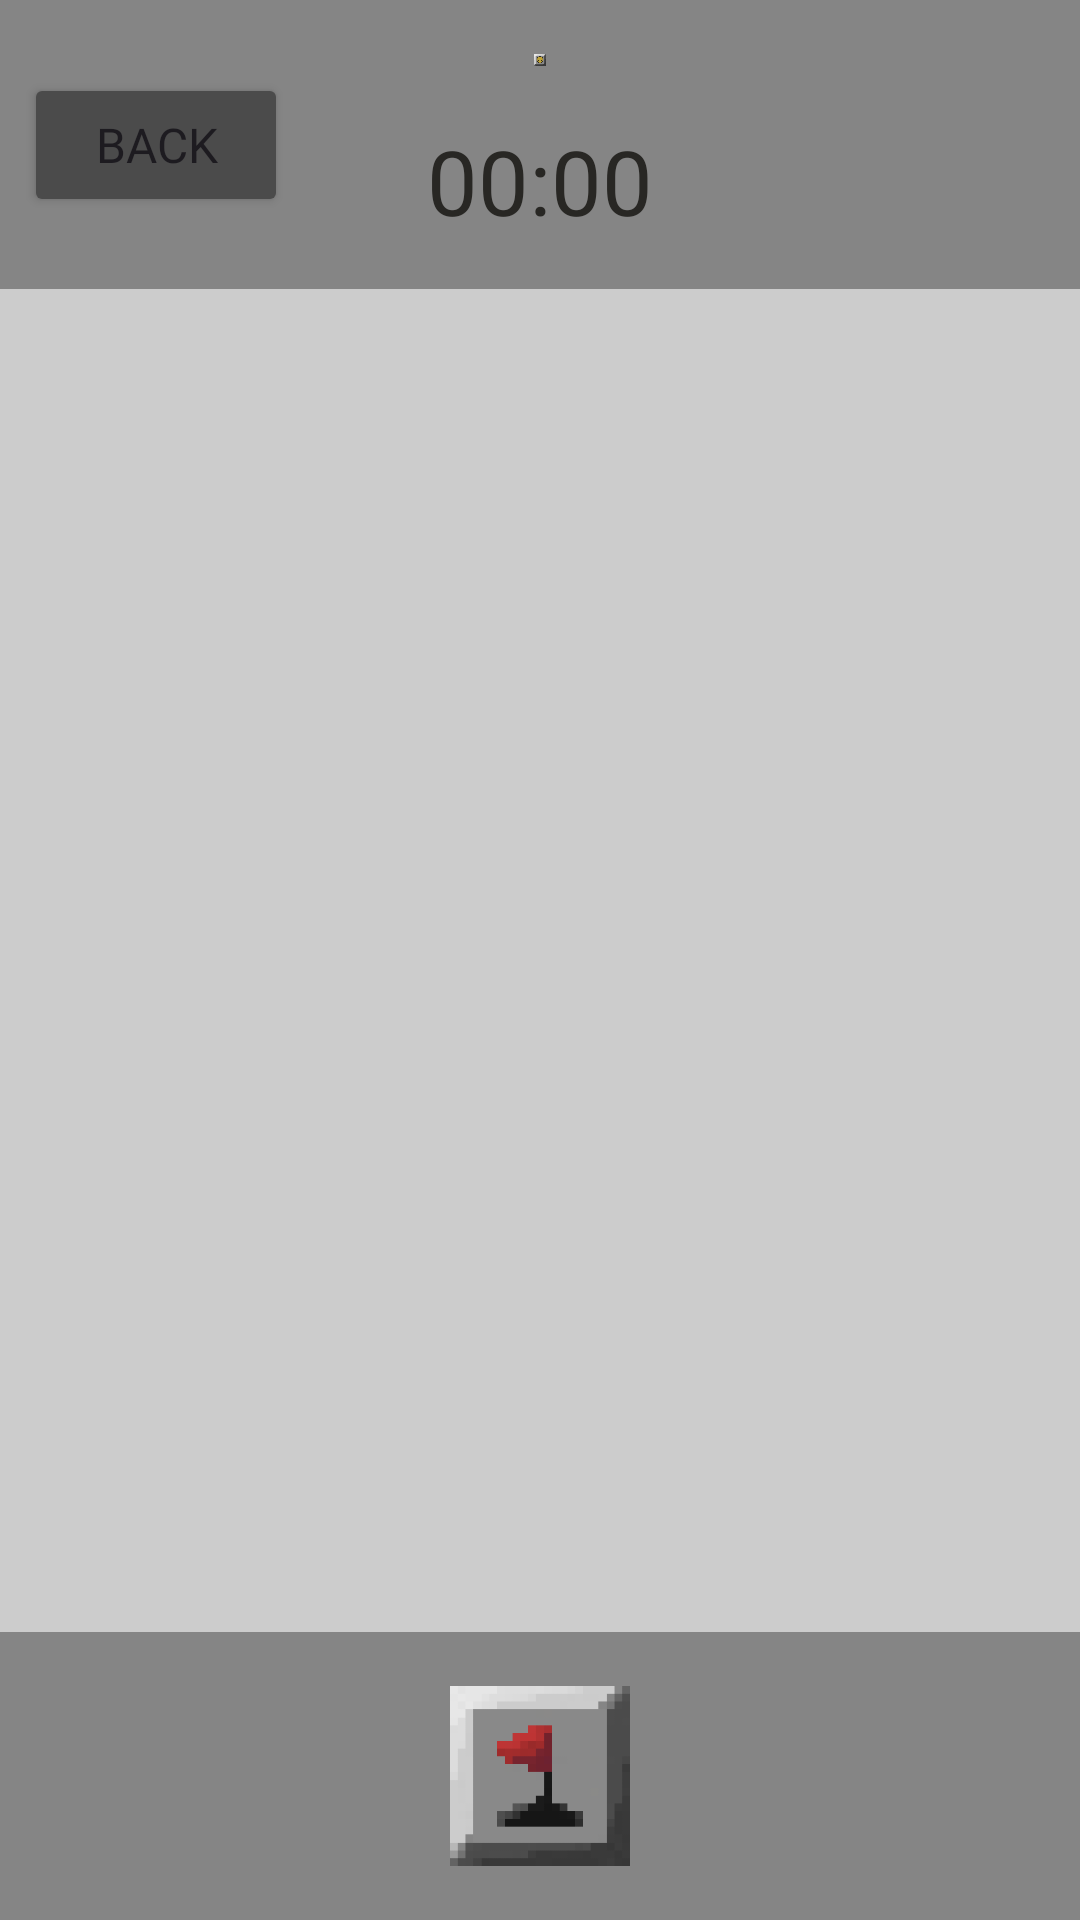

Named icons in this screenshot (1080x1920) and their bounding boxes, bbox(x1, y1, x2, y2):
minesweeper flag deactivated: bbox(450, 1686, 630, 1866)
